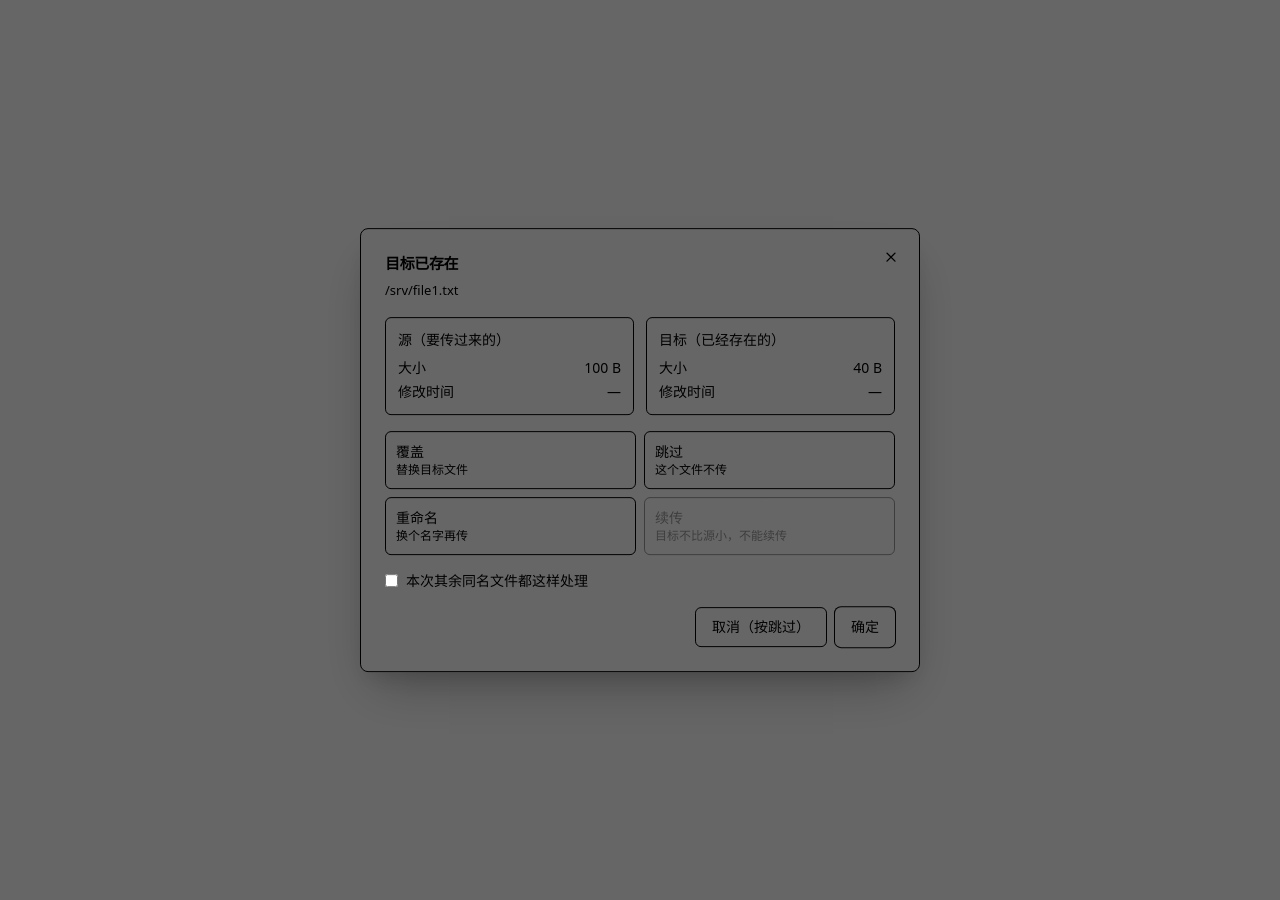
Test: 全部应用对整个批次生效（SFTP-7） › 不同会话里批次号相同也不是同一批
Click the checkbox labelled "本次其余同名文件都这样处理" at (392, 581), box [385, 574, 398, 587]
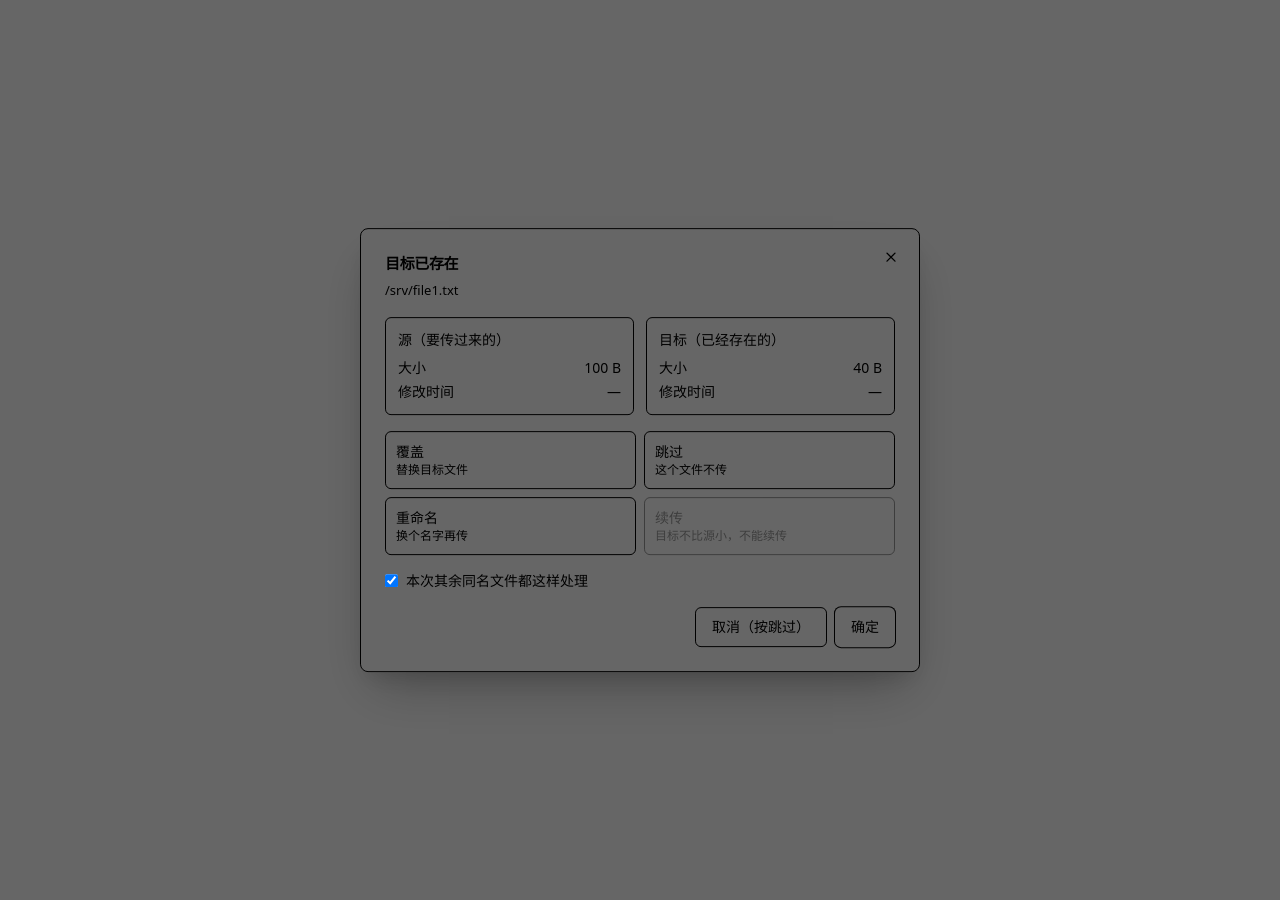
Click the button "确定" at (865, 627), box [835, 607, 895, 647]
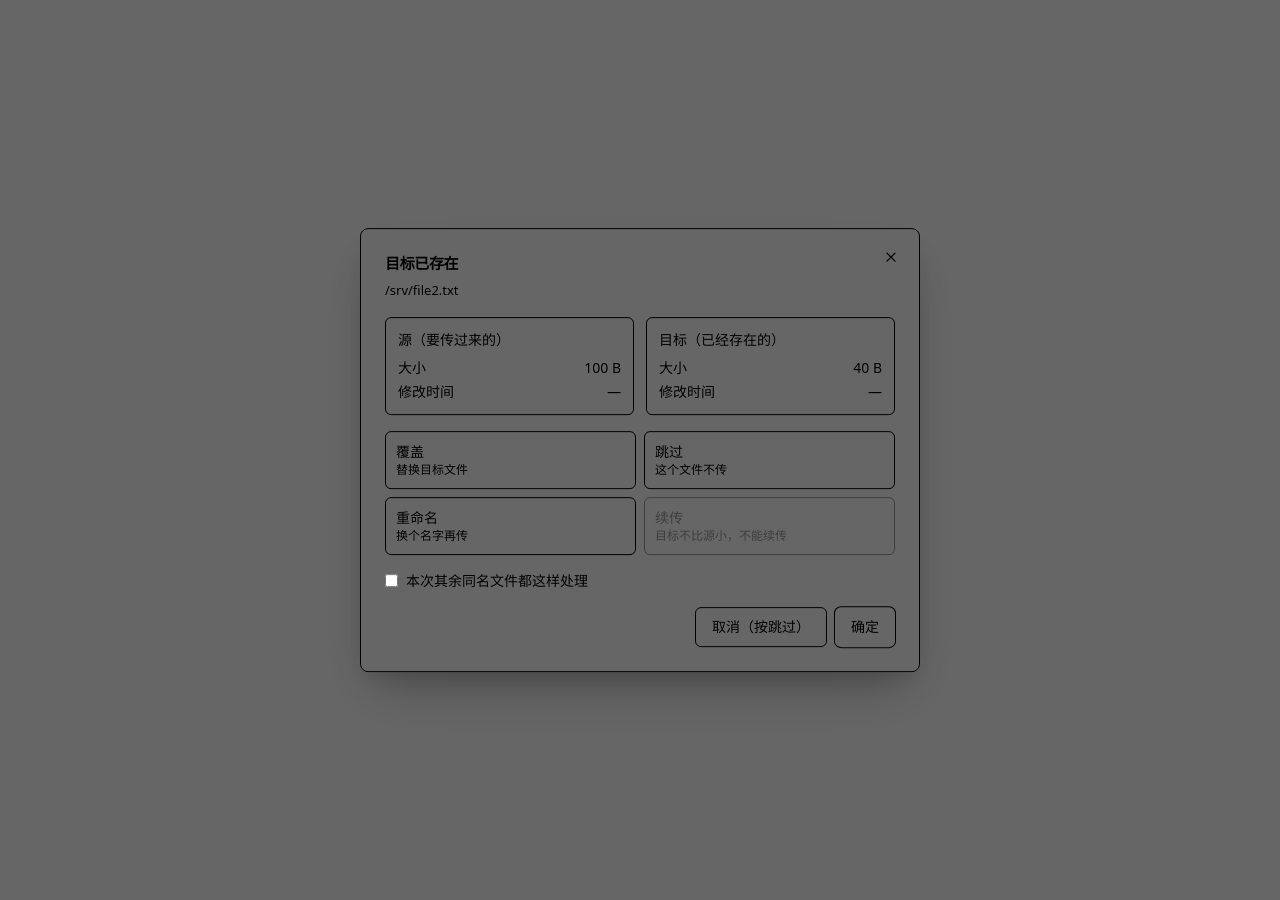
Check: the text "/srv/file2.txt" is shown, box [385, 281, 459, 299]
